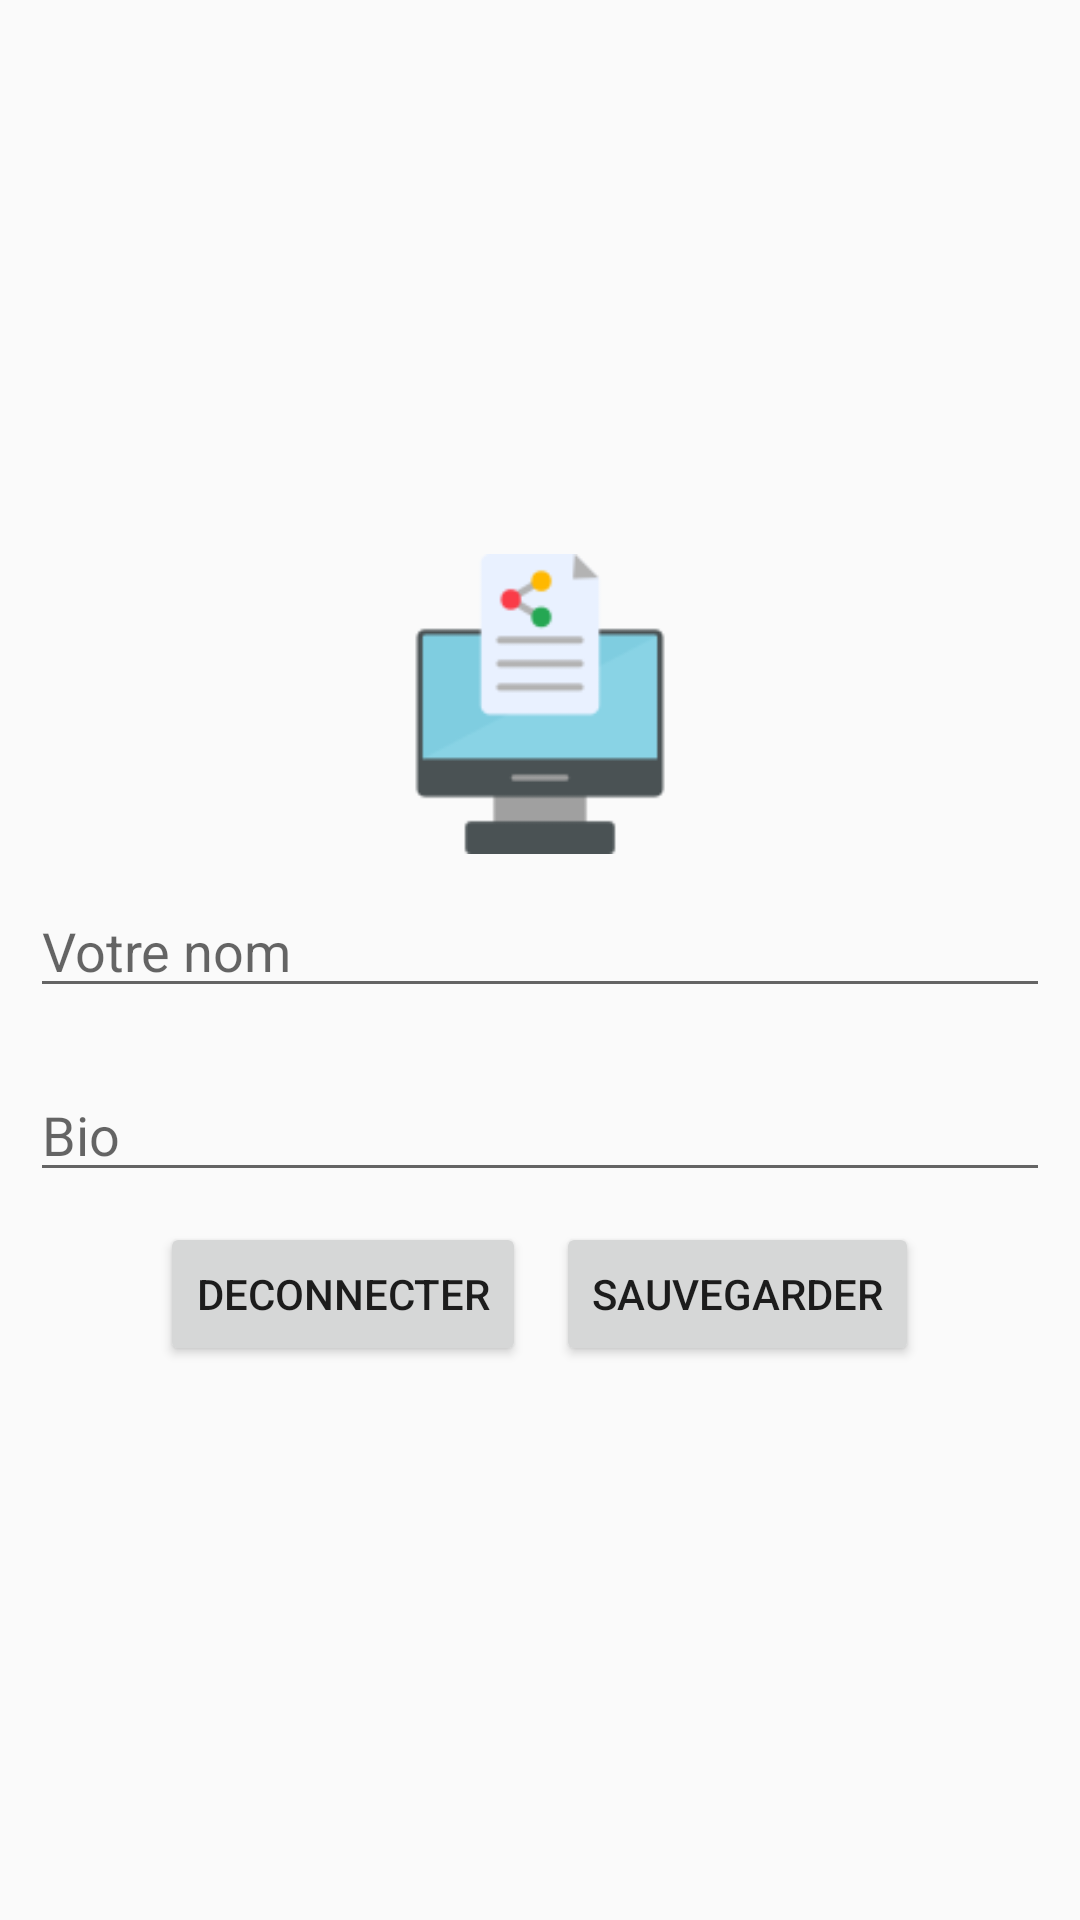

Screen size 1080 × 1920. Icon name, then its box in pixels as (x1, y1, x2, y2):
sharing: (415, 554, 665, 854)
